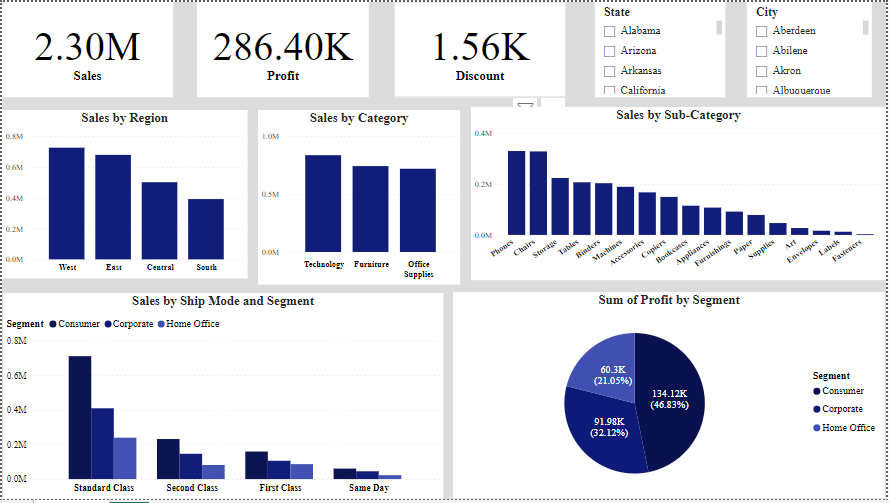

The dashboard page shown, as its layout file describes it:
{"tool":"powerbi","page":{"name":"Page 1","canvas":[1280,720],"ordinal":0},"visuals":[{"type":"clusteredColumnChart","title":"Sales by Category","fields":{"Category":["SampleSuperstore.Category"],"Y":["Sum(SampleSuperstore.Sales)"]},"box":[370.8,156.9,293.1,252.8],"z":0},{"type":"clusteredColumnChart","title":"Sales by Ship Mode and Segment","fields":{"Category":["SampleSuperstore.Ship Mode"],"Series":["SampleSuperstore.Segment"],"Y":["Sum(SampleSuperstore.Sales)"]},"box":[1.6,421.3,637.7,298.4],"z":1000},{"type":"pieChart","fields":{"Category":["SampleSuperstore.Segment"],"Y":["Sum(SampleSuperstore.Profit)"]},"box":[654.2,420.8,626.4,298.6],"z":2000},{"type":"card","title":"Total Sales","fields":{"Values":["Sum(SampleSuperstore.Sales)"]},"box":[0,0,248,137.5],"z":3000},{"type":"card","fields":{"Values":["Sum(SampleSuperstore.Profit)"]},"box":[282.5,0,249.2,138.1],"z":4000},{"type":"card","fields":{"Values":["Sum(SampleSuperstore.Discount)"]},"box":[568.3,0,249.2,138.1],"z":5000},{"type":"slicer","fields":{"Values":["SampleSuperstore.State"]},"box":[858.7,0,188.9,138.1],"z":6000},{"type":"slicer","fields":{"Values":["SampleSuperstore.City"]},"box":[1079.4,0,181,138.1],"z":7000},{"type":"clusteredColumnChart","title":"Sales by Region","fields":{"Y":["Sum(SampleSuperstore.Sales)"],"Category":["SampleSuperstore.Region"]},"box":[0,156.9,355.6,244.4],"z":8000},{"type":"clusteredColumnChart","title":"Sales by Sub-Category","fields":{"Y":["Sum(SampleSuperstore.Sales)"],"Category":["SampleSuperstore.Sub-Category"]},"box":[679.2,152.8,601.4,251.4],"z":9000}]}

Visuals, with their boxes in screenshot pixels (x1, y1, x2, y2), scaled from the page's 1280x720 canvas onto the 890x503 screenshot:
"Sales by Category" clusteredColumnChart: <bbox>258, 110, 462, 286</bbox>
"Sales by Ship Mode and Segment" clusteredColumnChart: <bbox>1, 294, 445, 502</bbox>
pieChart - SampleSuperstore.Segment x Sum(SampleSuperstore.Profit): <bbox>455, 294, 889, 502</bbox>
"Total Sales" card: <bbox>0, 0, 172, 96</bbox>
card - Sum(SampleSuperstore.Profit): <bbox>196, 0, 370, 96</bbox>
card - Sum(SampleSuperstore.Discount): <bbox>395, 0, 568, 96</bbox>
slicer - SampleSuperstore.State: <bbox>597, 0, 728, 96</bbox>
slicer - SampleSuperstore.City: <bbox>751, 0, 876, 96</bbox>
"Sales by Region" clusteredColumnChart: <bbox>0, 110, 247, 280</bbox>
"Sales by Sub-Category" clusteredColumnChart: <bbox>472, 107, 889, 282</bbox>
